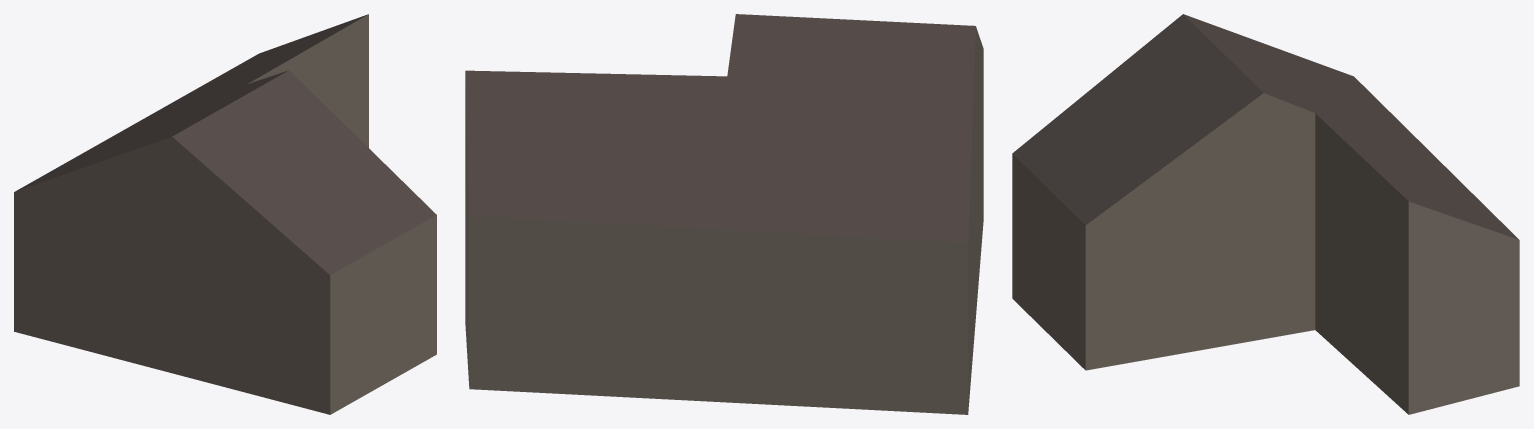
3 views of the same model, side by side, from view 1: azimuth 30°, elevation 25°; view 2: azimuth 150°, elevation 25°; view 3: azimuth 270°, elevation 25° (orthographic). The views are drawn at different scales.
Parts seen in each view (by area): view 1: HP-w1512468500; view 2: HP-w1512468500; view 3: HP-w1512468500.
Boxes of the visible parts, left/top/right/bottom form: HP-w1512468500: left=14, top=14, right=436, bottom=414; HP-w1512468500: left=465, top=14, right=983, bottom=414; HP-w1512468500: left=1012, top=14, right=1519, bottom=414.
Size of the model in its own units: 17.15 by 10.18 by 19.01.
